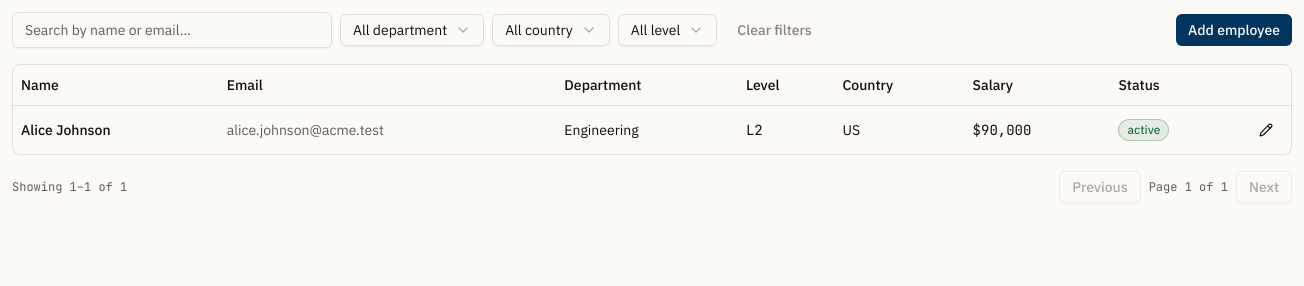
it: EmployeeTable › keeps showing stale rows (dimmed) when a reload fails, instead of blanking the table
Expected: the button "Alice Johnson" is shown, [21,120,110,140]
Click the dropdown labelled "department". click: (412, 30)
box: [340,14,484,46]
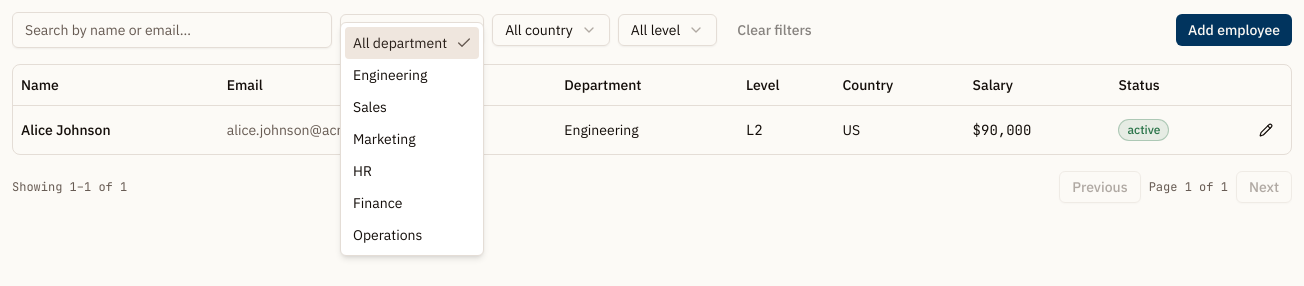
Click the option "Engineering". click: (390, 75)
box: [353,66,427,84]
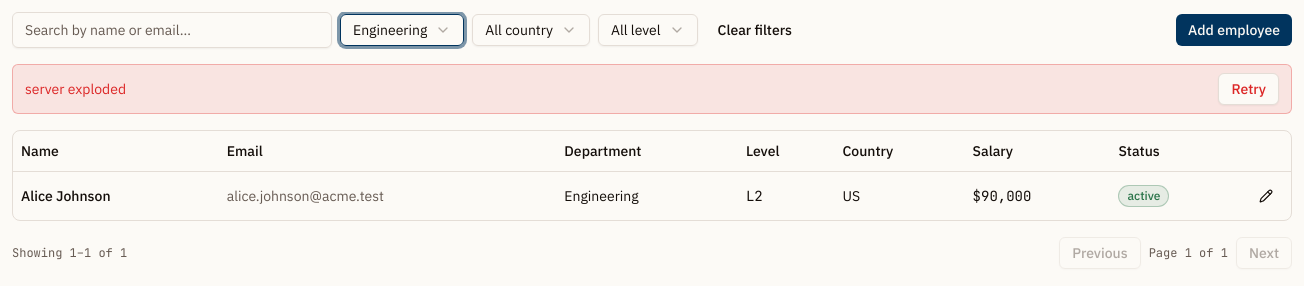
Expected: the button "Alice Johnson" is shown, [21,186,110,206]
Now the text "server exploded" is shown, box [25,79,126,99]
